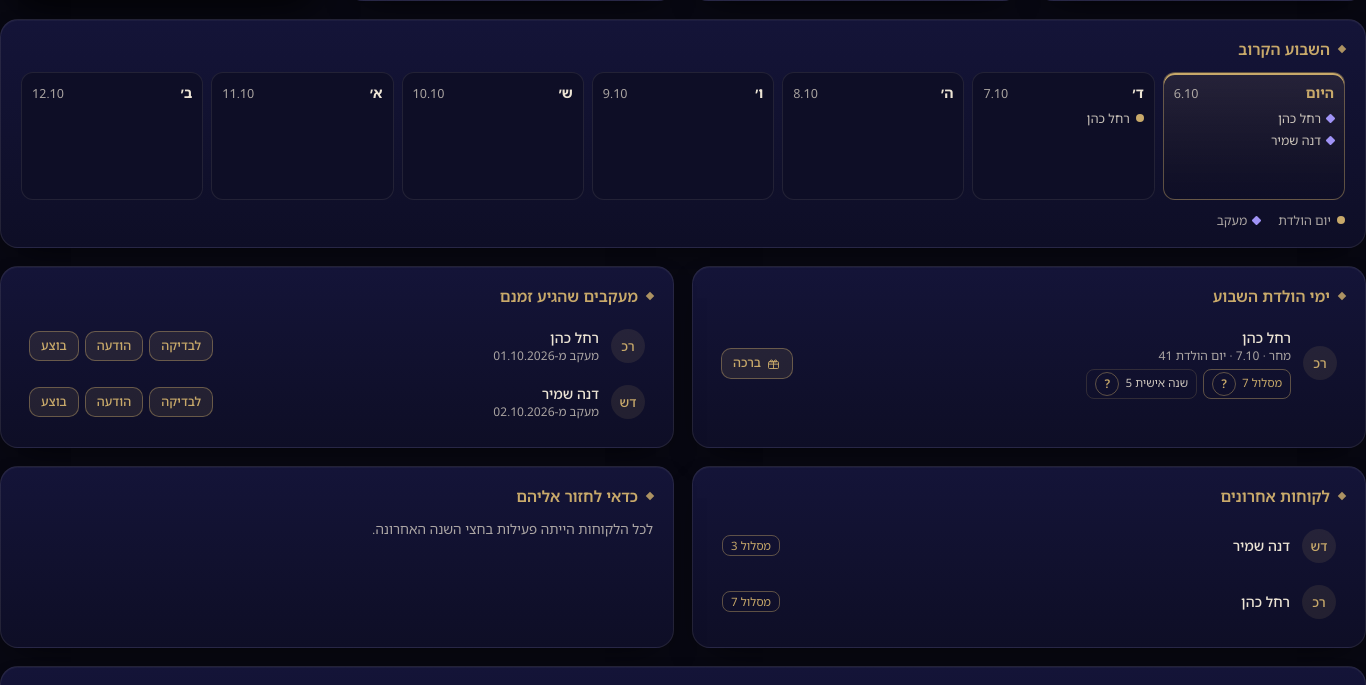
Test case: Today › bringing clients back › marking a follow-up done › shows the list failing to reload after a follow-up is marked, with the focus on the title and a retry
(page scrolled)
What coordinates should you click on to do the following:
click the button named "בוצע — המעקב של רחל כהן"
I would click on:
 (54, 346)
Its box is [29,331,79,361].
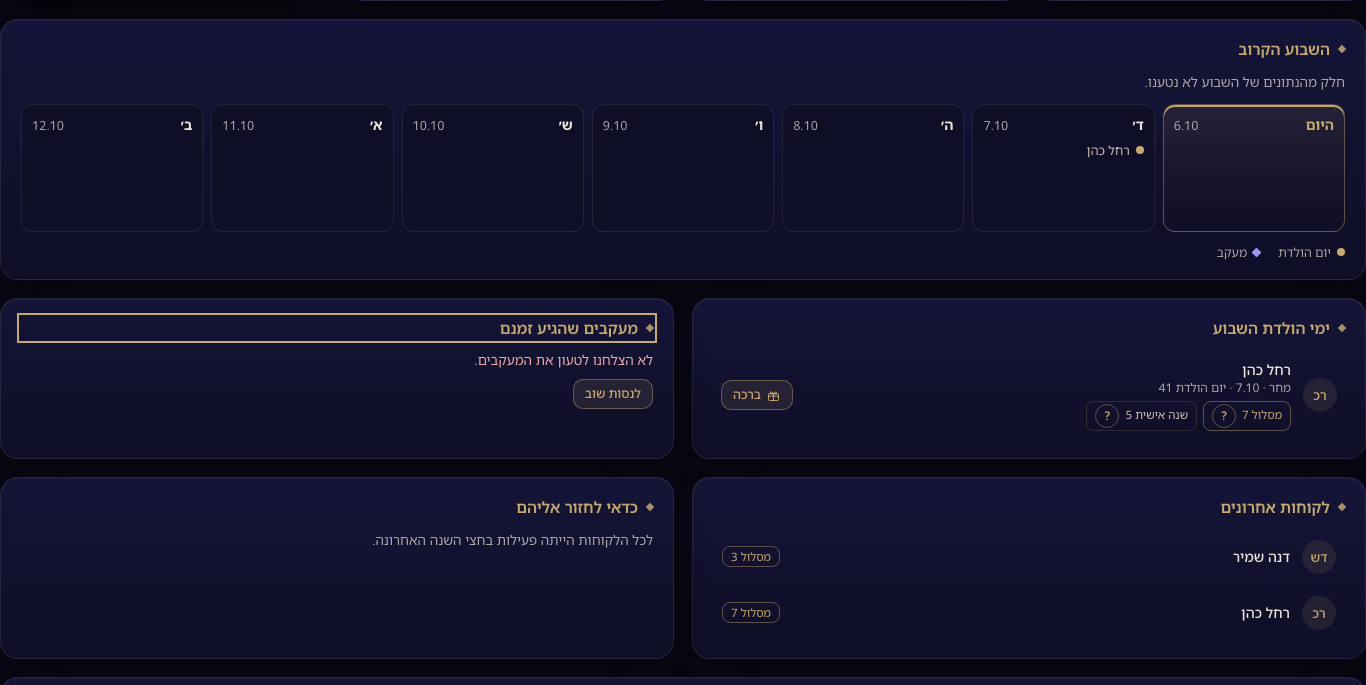
Expected: the message reads "לא הצלחנו לטעון את המעקבים.", [474,350,653,368]
What coordinates should you click on to do the following:
click the button "לנסות שוב"
I would click on:
 (613, 394)
Its box is [573,378,653,409].
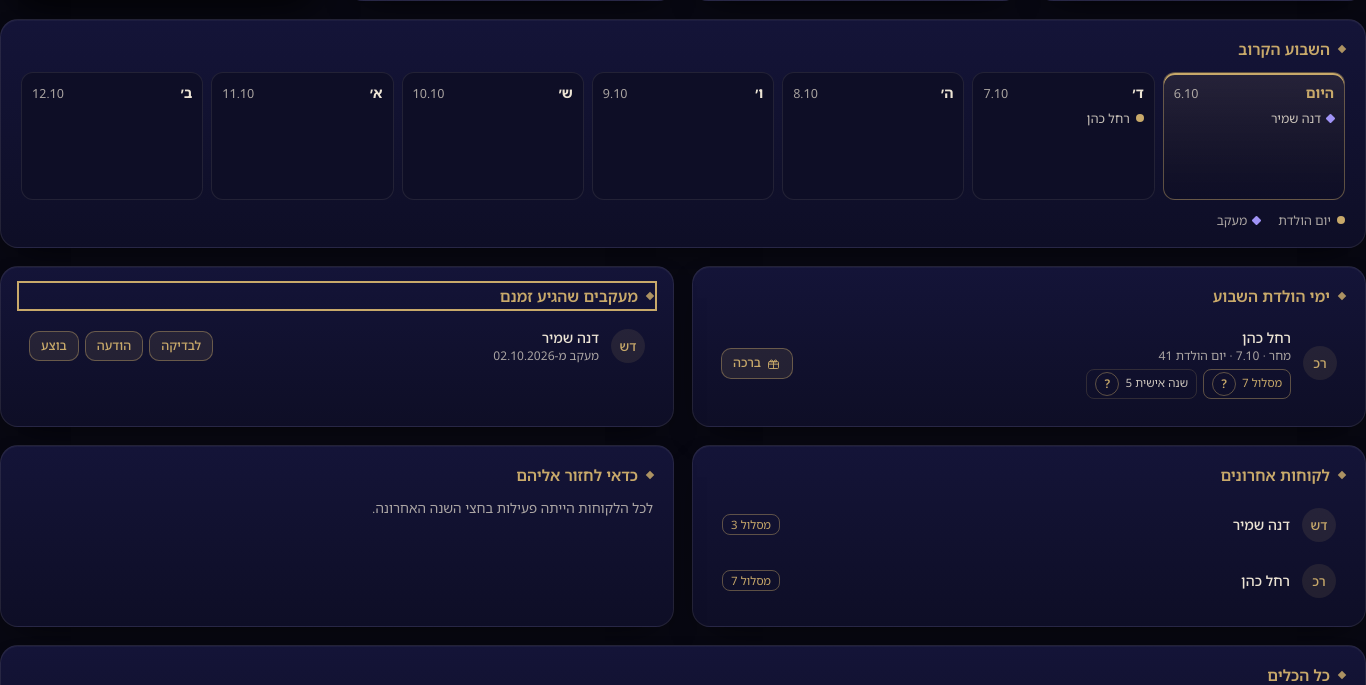
Expected: the button "בוצע — המעקב של רחל כהן" is not shown
Expected: the button named "בוצע — המעקב של דנה שמיר" is shown, [29,331,79,361]
